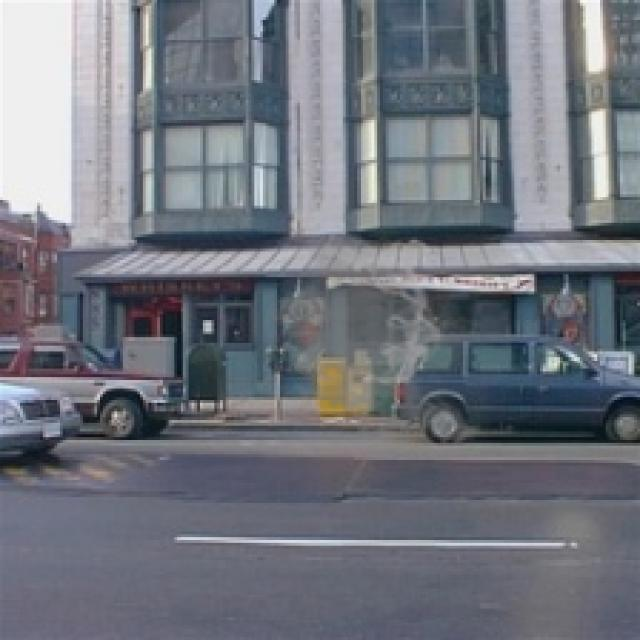Smoke: (257, 232, 512, 452)
